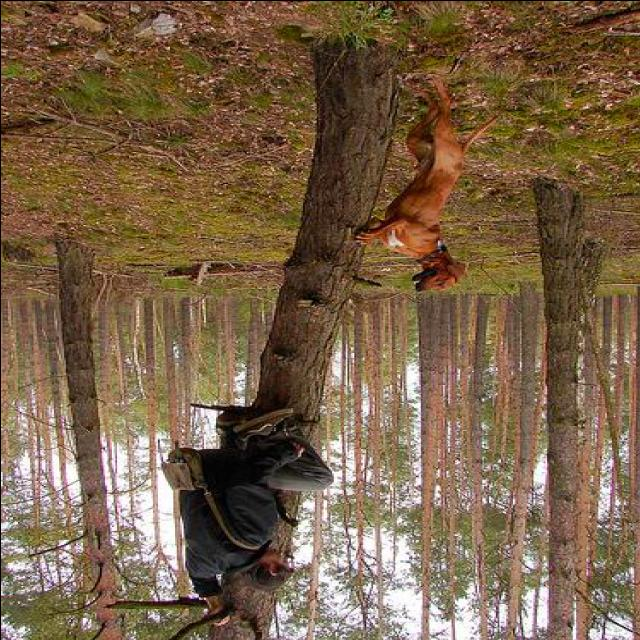rhodesian_ridgeback: (354, 74, 498, 294)
